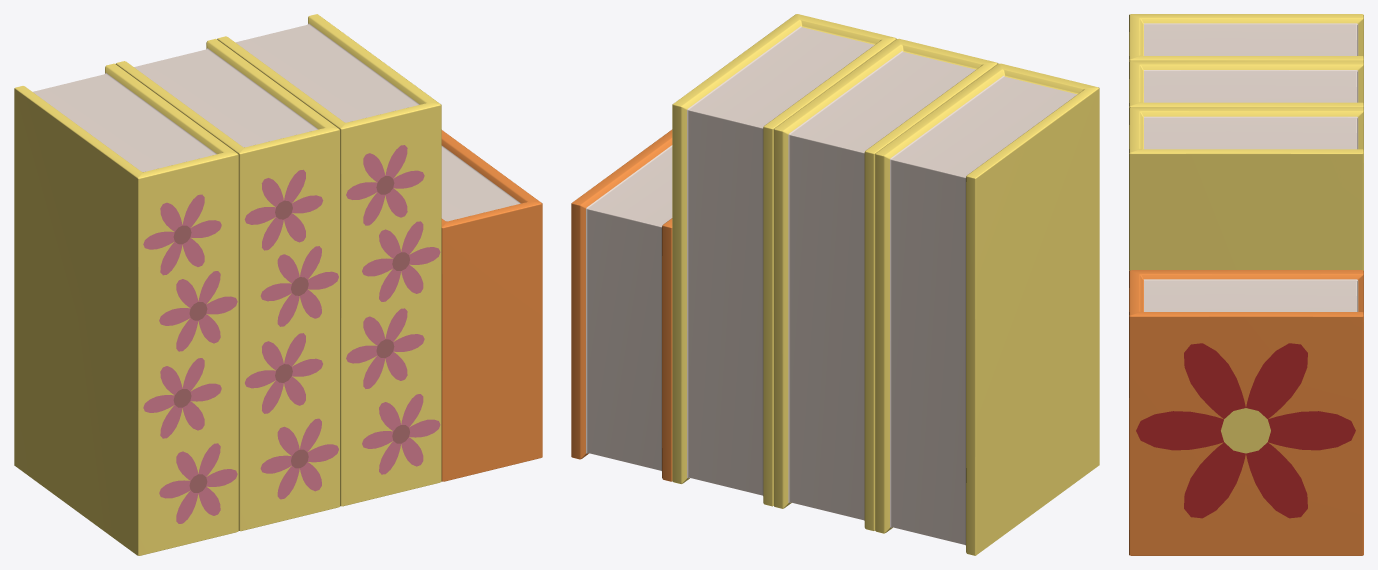
Rendered from Book_5.glb.
3 renders of one model, left to right at view 1: azimuth 30°, elevation 25°; view 2: azimuth 150°, elevation 25°; view 3: azimuth 270°, elevation 25°, orthographic. The views are drawn at different scales.
Visible parts, largest first — view 1: Books_15; view 2: Books_15; view 3: Books_15.
Part boxes in pixels (<box>): Books_15: <box>14,14,542,555</box>; Books_15: <box>571,14,1099,555</box>; Books_15: <box>1129,14,1363,555</box>.
Size of the model in its own units: 0.4082 by 0.3637 by 0.2179.
Materials: 1 (1 with a texture image).
